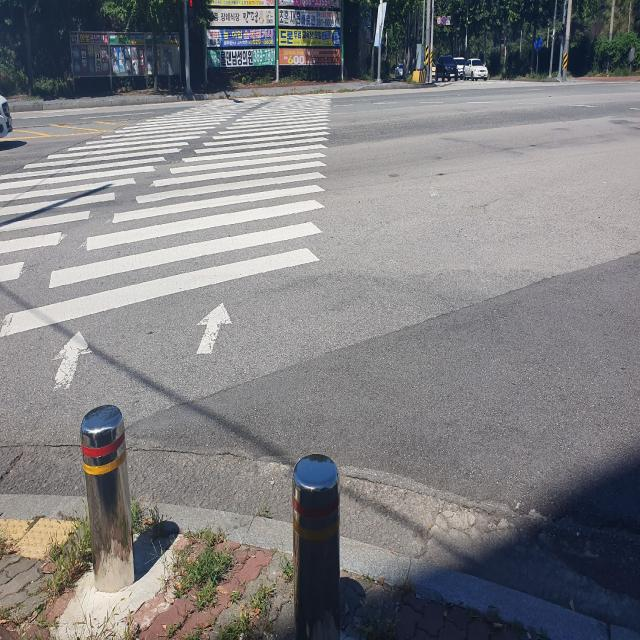빨간불: (187, 0, 196, 23)
횡단보도: (0, 91, 333, 392)
